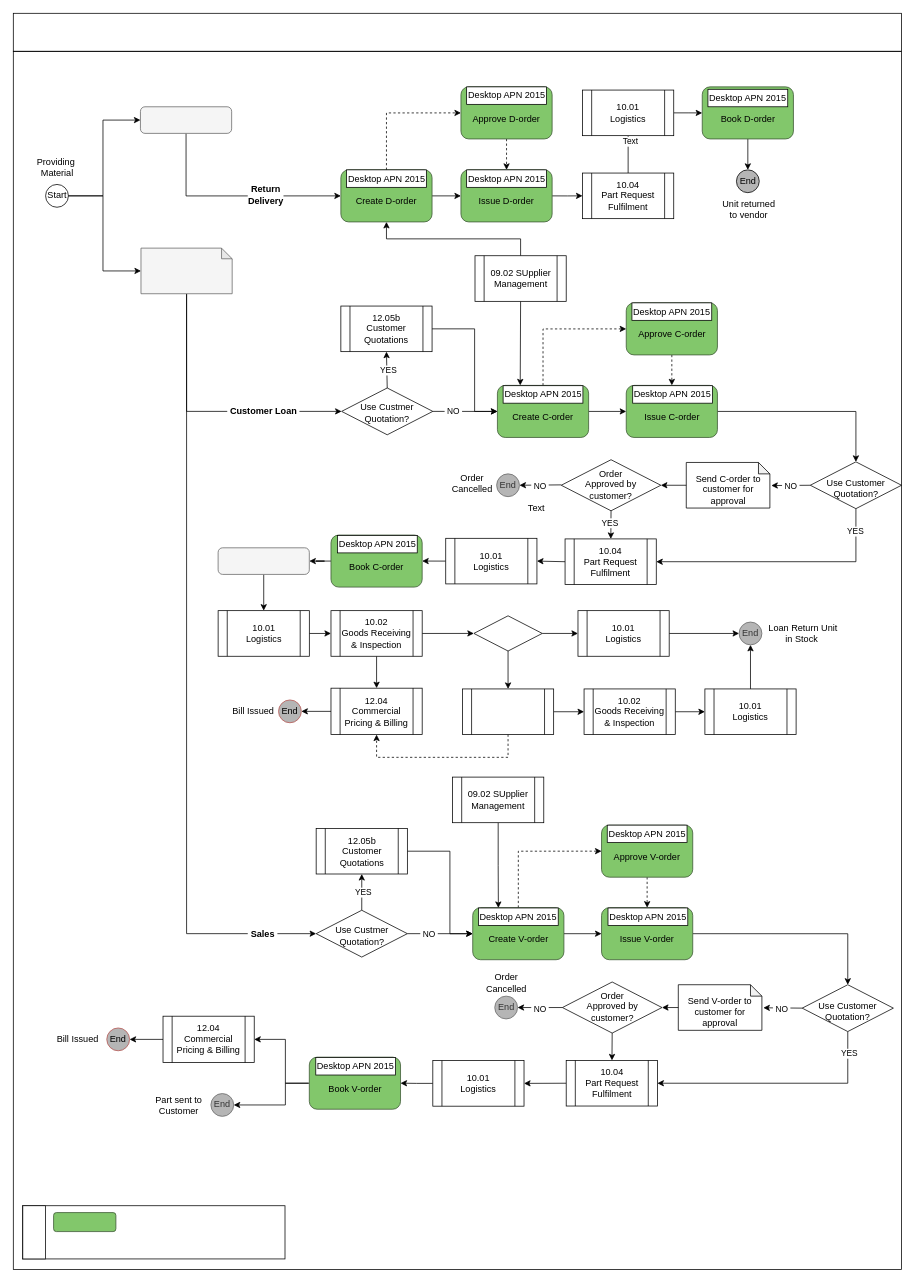
Image size: 915x1283. Some labels were removed from this diagram. The centre of each missing label's shape, as x and y in pixels:
"09.03b Ordering (Providing Material: Return Delivery, Customer Loan, Sales)" belongs at (x=457, y=32).
"09.04 Repair and Exchange" belongs at (x=508, y=711).
"Fulfillment of Customer Orders / Quotations" belongs at (x=186, y=270).
"LEGEND" belongs at (x=34, y=1232).
"Purchasing" belongs at (x=84, y=1222).
"Return Material to Vendors" belongs at (x=186, y=119).
"Serviceable Unit Sent to Customer" belongs at (x=263, y=560).
"Serviceable?" belongs at (x=507, y=633).
